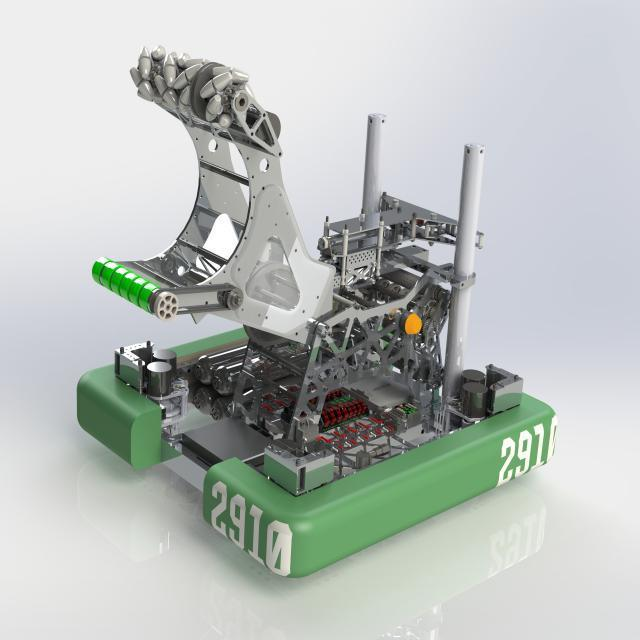robot: (70, 34, 564, 578)
